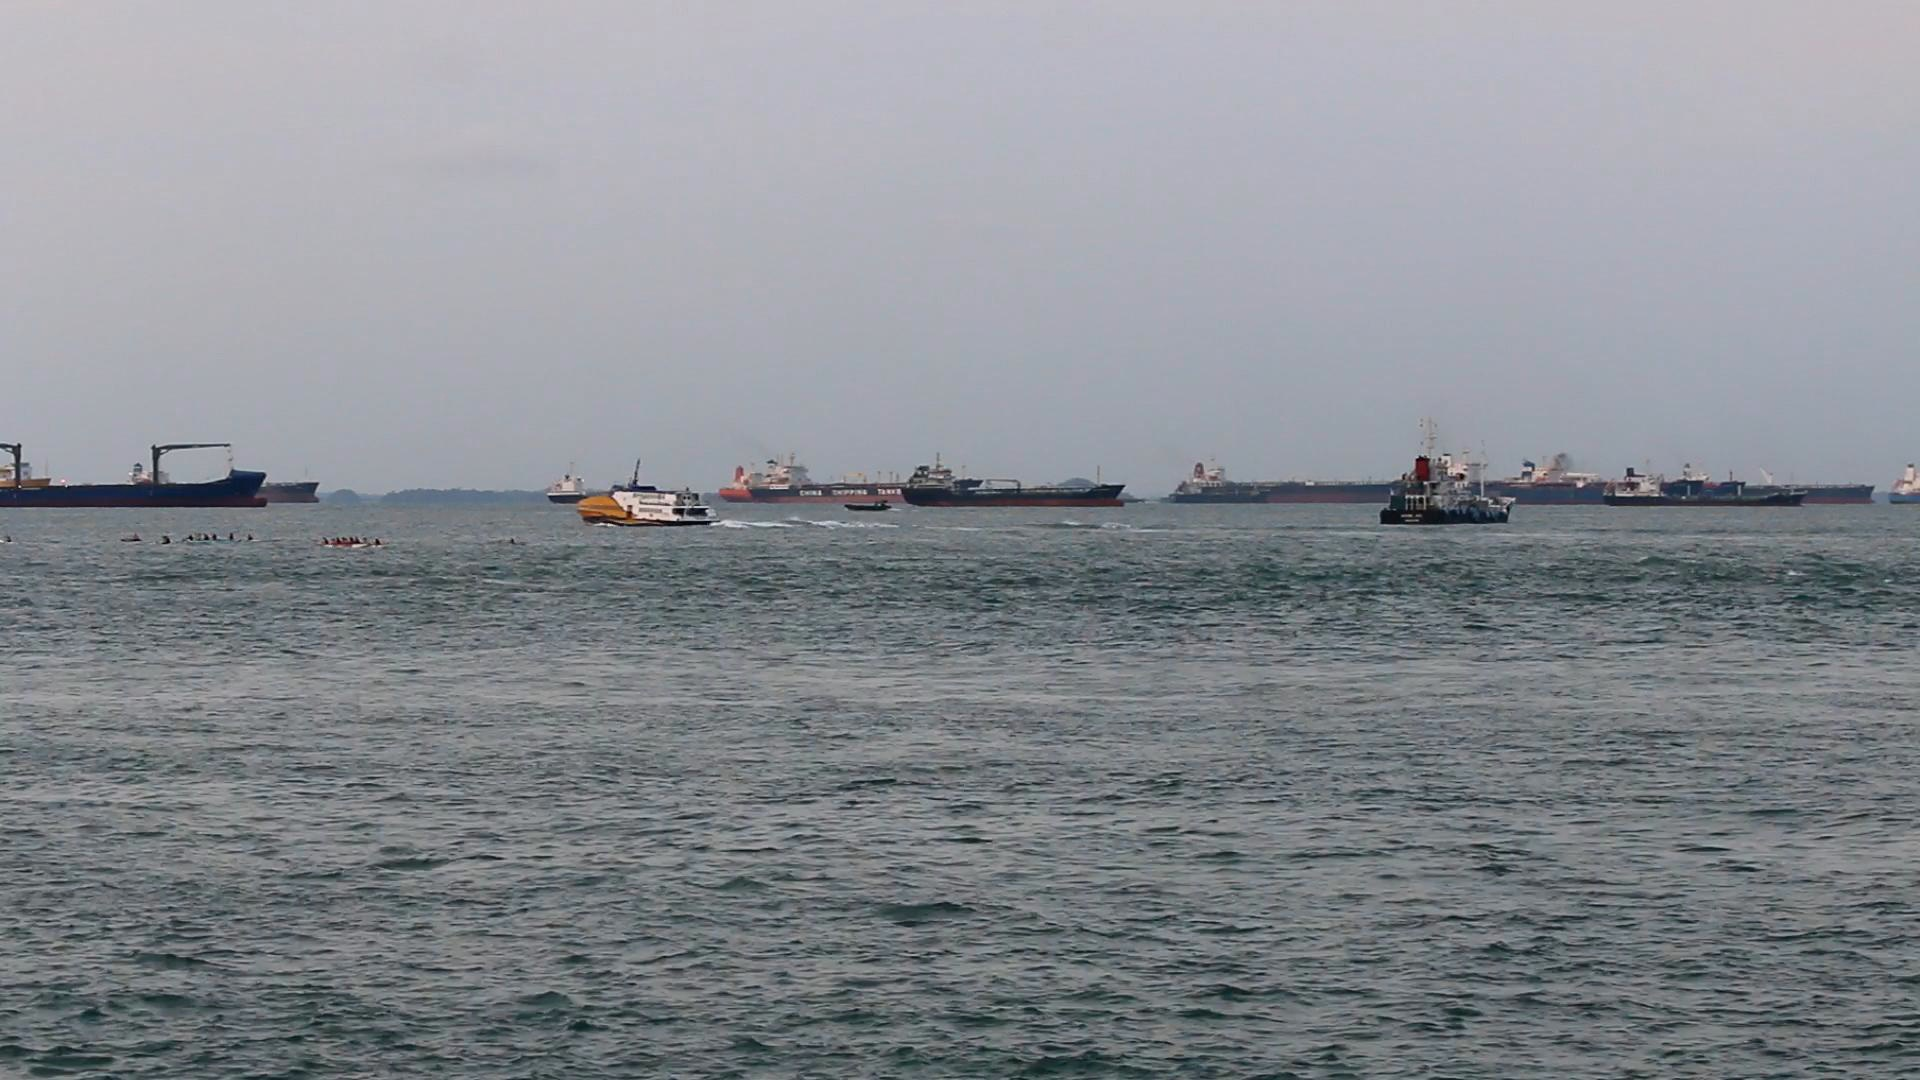Container Ship: (1155, 445, 1589, 502), (0, 437, 276, 507), (1564, 444, 1884, 500), (1378, 412, 1521, 528), (904, 451, 1133, 509), (725, 441, 911, 503), (1602, 458, 1811, 506), (130, 456, 325, 498), (549, 455, 690, 506)
